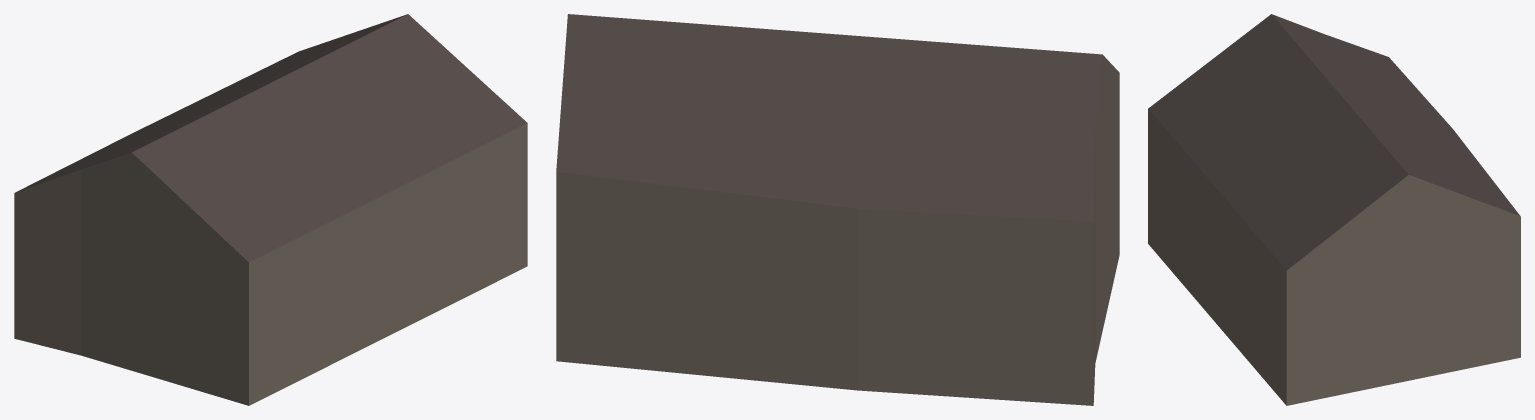
3 views of the same model, side by side, from view 1: azimuth 30°, elevation 25°; view 2: azimuth 150°, elevation 25°; view 3: azimuth 270°, elevation 25° (orthographic). The views are drawn at different scales.
Visible parts, largest first — view 1: HP-w1512461411; view 2: HP-w1512461411; view 3: HP-w1512461411.
Part boxes in pixels (<box>): HP-w1512461411: <box>14,14,527,405</box>; HP-w1512461411: <box>556,14,1119,405</box>; HP-w1512461411: <box>1148,14,1520,405</box>.
Bounding box in the file's own units: 20.11 × 9.14 × 14.98.
